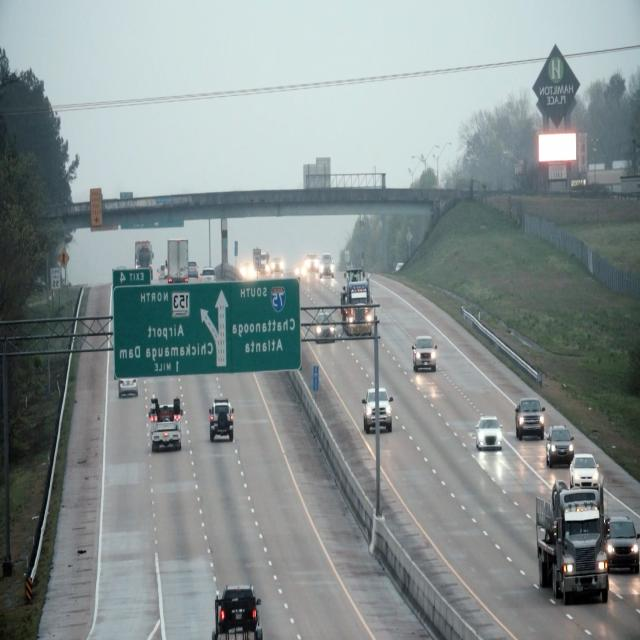Car: (535, 489, 606, 597), (212, 580, 260, 640), (341, 260, 374, 340), (145, 393, 184, 455), (604, 514, 638, 572), (361, 385, 392, 433), (514, 395, 545, 441), (544, 421, 575, 466), (567, 450, 599, 493), (409, 336, 440, 374), (475, 409, 501, 454), (206, 400, 233, 440), (314, 308, 334, 344)
